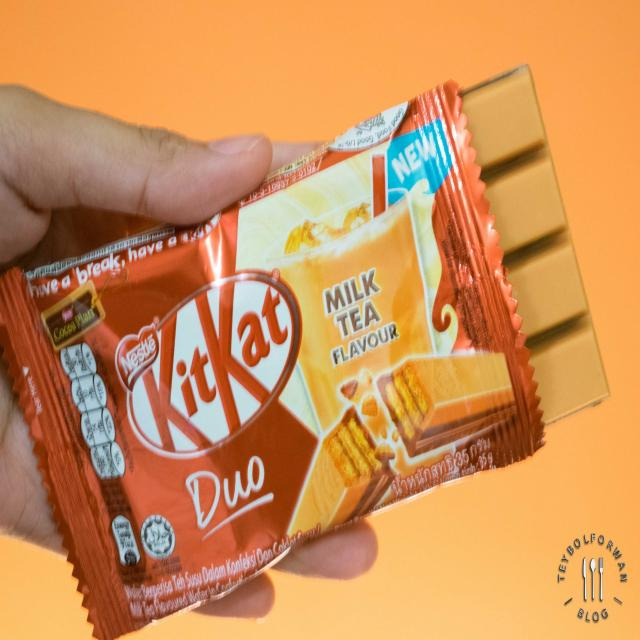kitkat: (0, 55, 604, 634)
